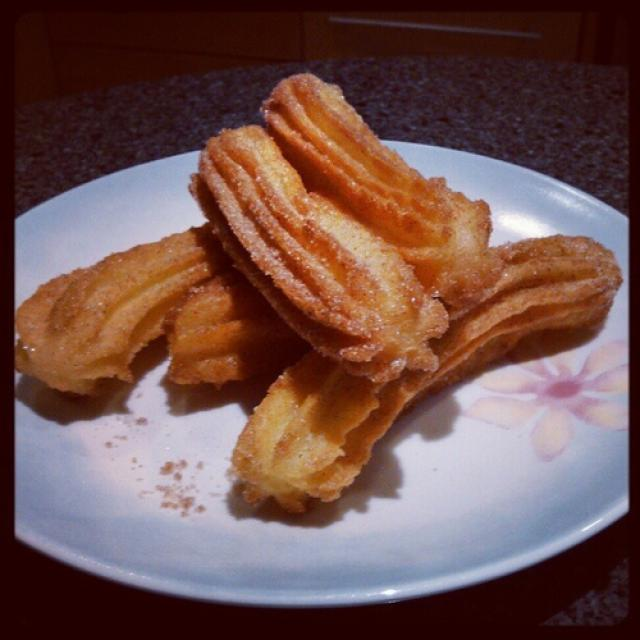炸货点心: (61, 67, 578, 560)
